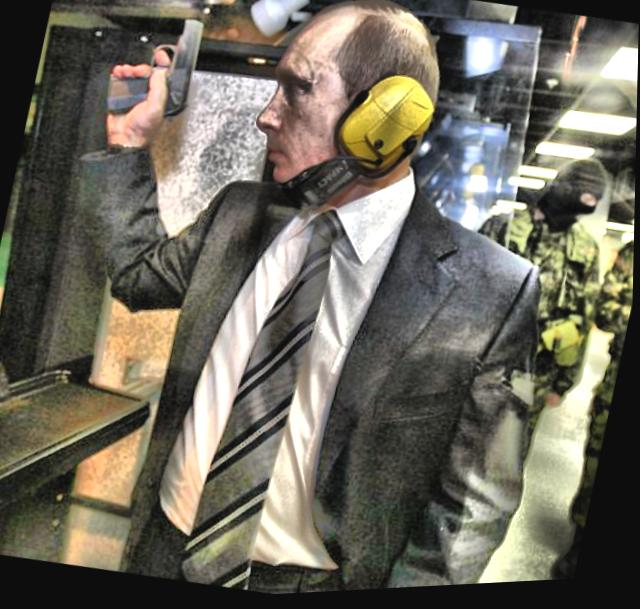pistol: (100, 5, 207, 131)
